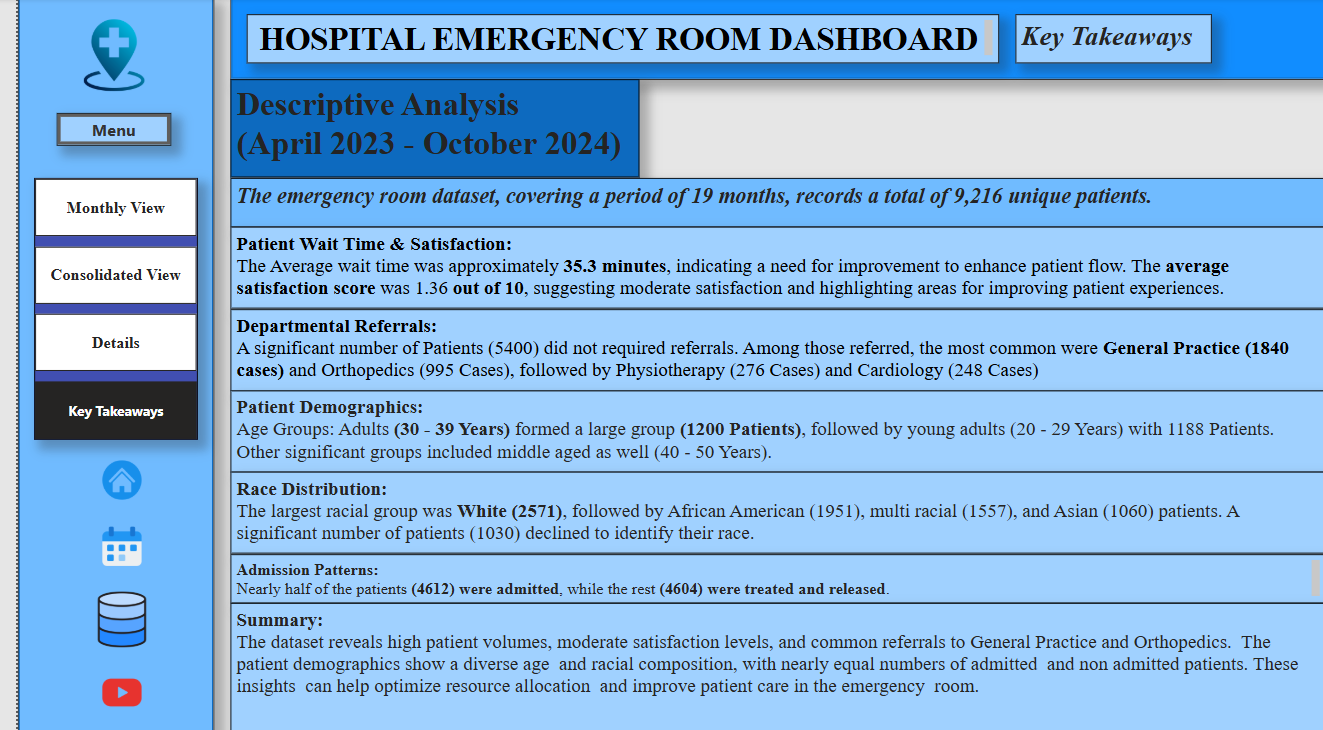

This screenshot's page, from the dashboard's own definition file:
{"tool":"powerbi","page":{"name":"Key Takeaways","canvas":[1280,720],"ordinal":3},"visuals":[{"type":"shape","box":[208,0,1072,80],"z":0},{"type":"shape","box":[0,0,192,720],"z":1000},{"type":"image","box":[21.9,15.9,144,80],"z":2000},{"type":"actionButton","box":[37.9,111.9,112,32],"z":3000},{"type":"image","box":[69.9,447.9,64,48],"z":4000},{"type":"image","box":[69.9,511.9,64,48],"z":5000},{"type":"image","box":[69.9,575.9,64,64],"z":6000},{"type":"image","box":[69.9,655.9,64,48],"z":7000},{"type":"textbox","box":[224,16,736,48],"z":8000},{"type":"textbox","box":[976,16,192,48],"z":9000},{"type":"pageNavigator","box":[16,176,160,256],"z":10000},{"type":"textbox","box":[208,80,400,96],"z":11000},{"type":"textbox","box":[208,176,1072,48],"z":12000},{"type":"textbox","box":[208,224,1072,80],"z":13000},{"type":"textbox","box":[208,304,1072,80],"z":14000},{"type":"textbox","box":[208,384,1072,80],"z":16000},{"type":"textbox","box":[208,464,1072,80],"z":17000},{"type":"textbox","box":[208,544,1072,48],"z":18000},{"type":"textbox","box":[208,592,1072,128],"z":19000}]}

Visuals, with their boxes in screenshot pixels (x1, y1, x2, y2):
shape: {"left": 230, "top": 0, "right": 1322, "bottom": 73}
shape: {"left": 14, "top": 0, "right": 213, "bottom": 729}
image: {"left": 36, "top": 6, "right": 186, "bottom": 89}
actionButton: {"left": 53, "top": 106, "right": 169, "bottom": 139}
image: {"left": 86, "top": 454, "right": 153, "bottom": 504}
image: {"left": 86, "top": 521, "right": 153, "bottom": 570}
image: {"left": 86, "top": 587, "right": 153, "bottom": 653}
image: {"left": 86, "top": 670, "right": 153, "bottom": 720}
textbox: {"left": 246, "top": 6, "right": 1009, "bottom": 56}
textbox: {"left": 1026, "top": 6, "right": 1225, "bottom": 56}
pageNavigator: {"left": 30, "top": 172, "right": 196, "bottom": 438}
textbox: {"left": 230, "top": 73, "right": 644, "bottom": 172}
textbox: {"left": 230, "top": 172, "right": 1322, "bottom": 222}
textbox: {"left": 230, "top": 222, "right": 1322, "bottom": 305}
textbox: {"left": 230, "top": 305, "right": 1322, "bottom": 388}
textbox: {"left": 230, "top": 388, "right": 1322, "bottom": 471}
textbox: {"left": 230, "top": 471, "right": 1322, "bottom": 554}
textbox: {"left": 230, "top": 554, "right": 1322, "bottom": 604}
textbox: {"left": 230, "top": 604, "right": 1322, "bottom": 729}
